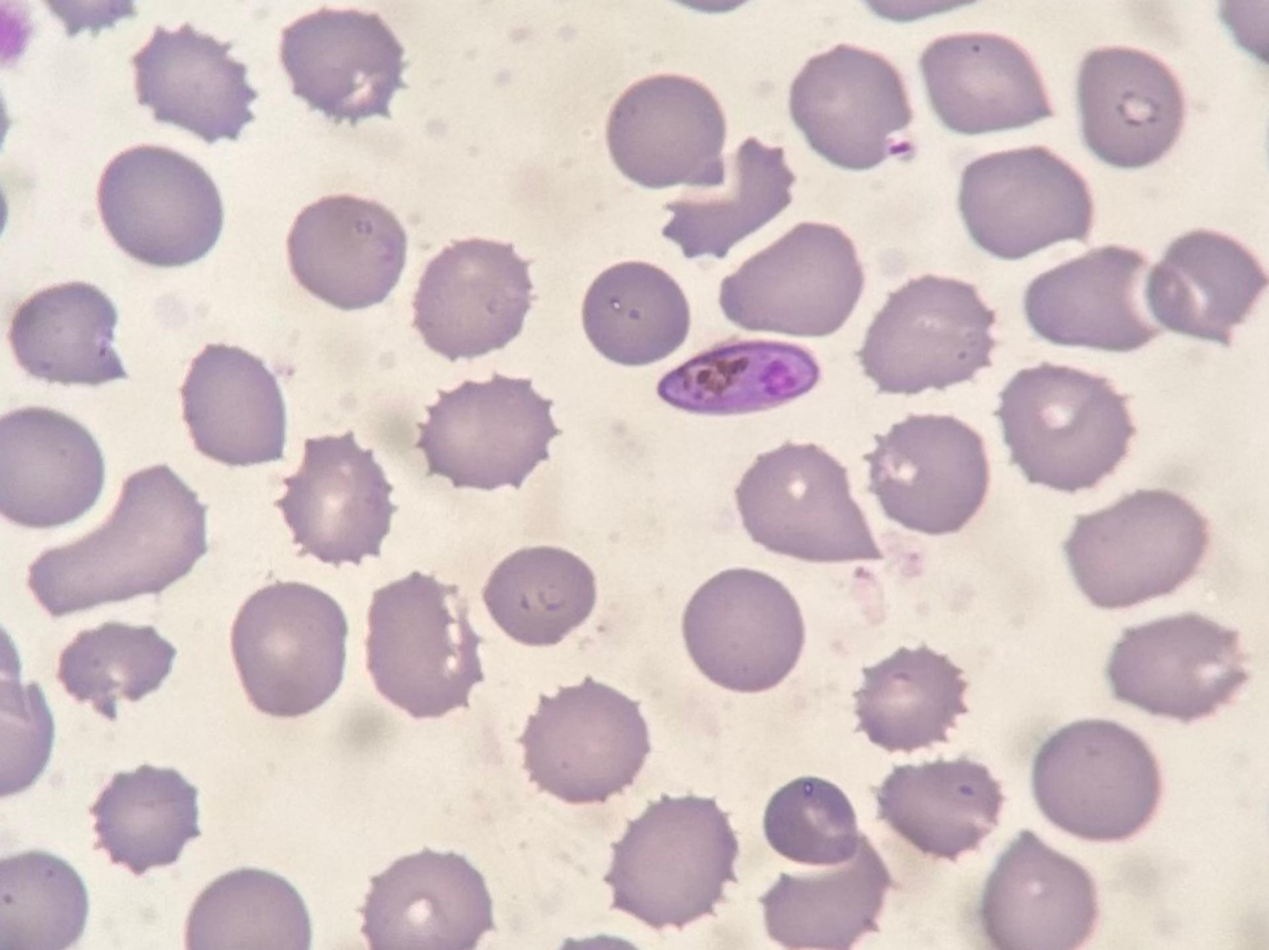Infected: (788, 45, 911, 166), (655, 344, 825, 414)
Uninfected: (28, 466, 204, 616), (723, 221, 864, 340), (605, 801, 734, 930), (736, 444, 876, 562), (366, 576, 482, 716), (1069, 491, 1205, 607), (999, 367, 1129, 488), (860, 276, 995, 392), (661, 139, 788, 261), (418, 375, 552, 490), (229, 584, 346, 715), (519, 682, 646, 801), (1032, 721, 1157, 840), (868, 414, 993, 532), (682, 569, 803, 690), (98, 147, 221, 266), (1106, 615, 1244, 718), (280, 435, 393, 560), (412, 240, 533, 356), (1025, 246, 1154, 353), (132, 26, 252, 139), (607, 73, 726, 186), (958, 149, 1083, 256), (280, 9, 402, 118), (288, 196, 404, 309), (920, 32, 1047, 135), (362, 850, 492, 949), (763, 846, 890, 947), (180, 345, 286, 466), (1079, 46, 1185, 165), (983, 838, 1096, 949), (1154, 231, 1268, 341), (878, 760, 999, 859), (0, 408, 103, 524), (9, 281, 124, 384), (854, 647, 968, 749), (91, 768, 200, 874), (484, 546, 596, 647), (581, 261, 687, 365), (59, 623, 174, 713), (184, 870, 307, 948), (765, 776, 863, 868), (0, 855, 85, 949)
